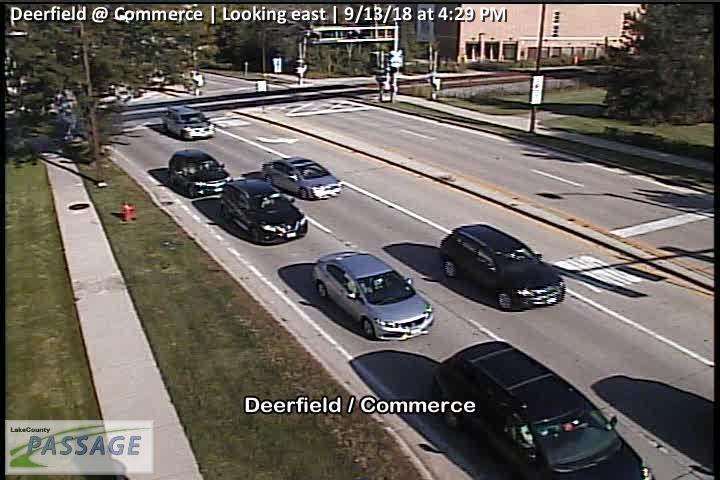SUV: (439, 224, 566, 311), (218, 179, 309, 246), (168, 149, 232, 199), (161, 105, 215, 142)
Sedan: (433, 341, 655, 480), (311, 251, 434, 341), (260, 156, 342, 201)
